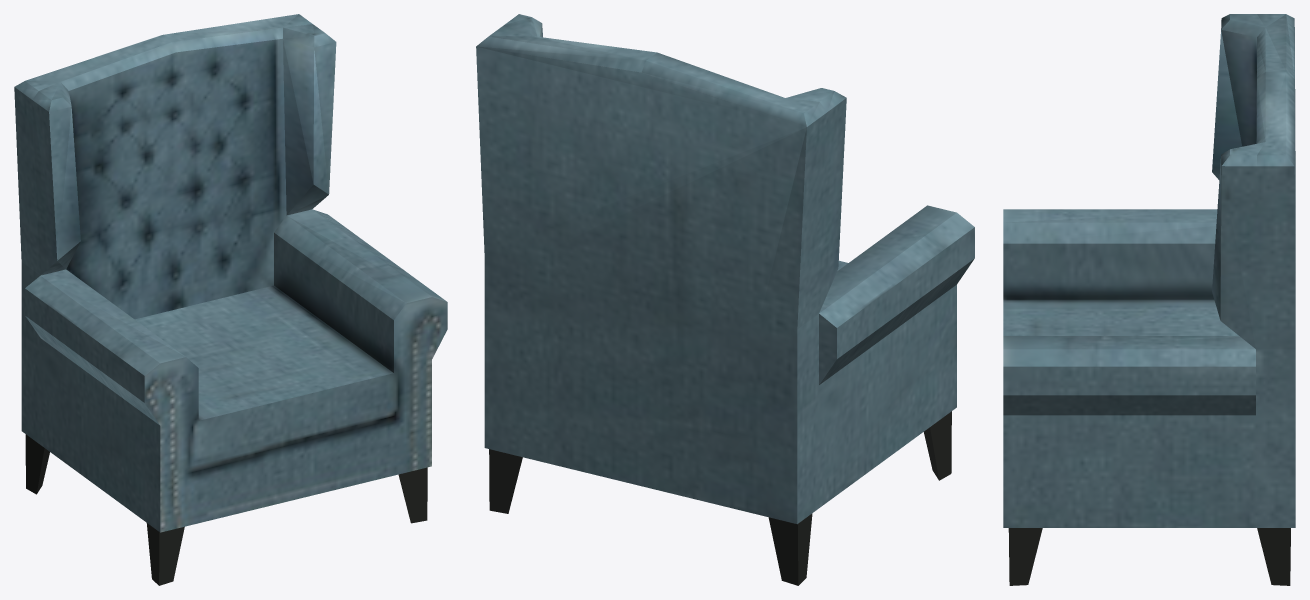
The model's file is poltrona_c.glb.
The picture shows the model from 3 angles, left to right: view 1: azimuth 30°, elevation 25°; view 2: azimuth 150°, elevation 25°; view 3: azimuth 270°, elevation 25°; orthographic projection. The views are drawn at different scales.
Visible parts, largest first — view 1: poltrona_c; view 2: poltrona_c; view 3: poltrona_c.
Part boxes in pixels (bbox=[...]): poltrona_c: bbox=[14, 14, 447, 585]; poltrona_c: bbox=[476, 14, 974, 585]; poltrona_c: bbox=[1003, 14, 1295, 585].
Size of the model in its own units: 1.02 by 1.36 by 0.8086.
1 material, 1 textured.
